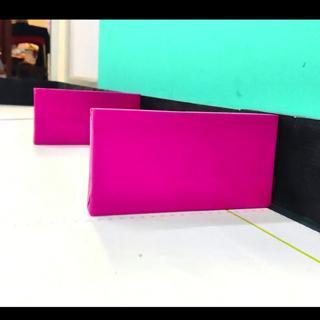xparking: (93, 112, 280, 215), (36, 91, 90, 145)
